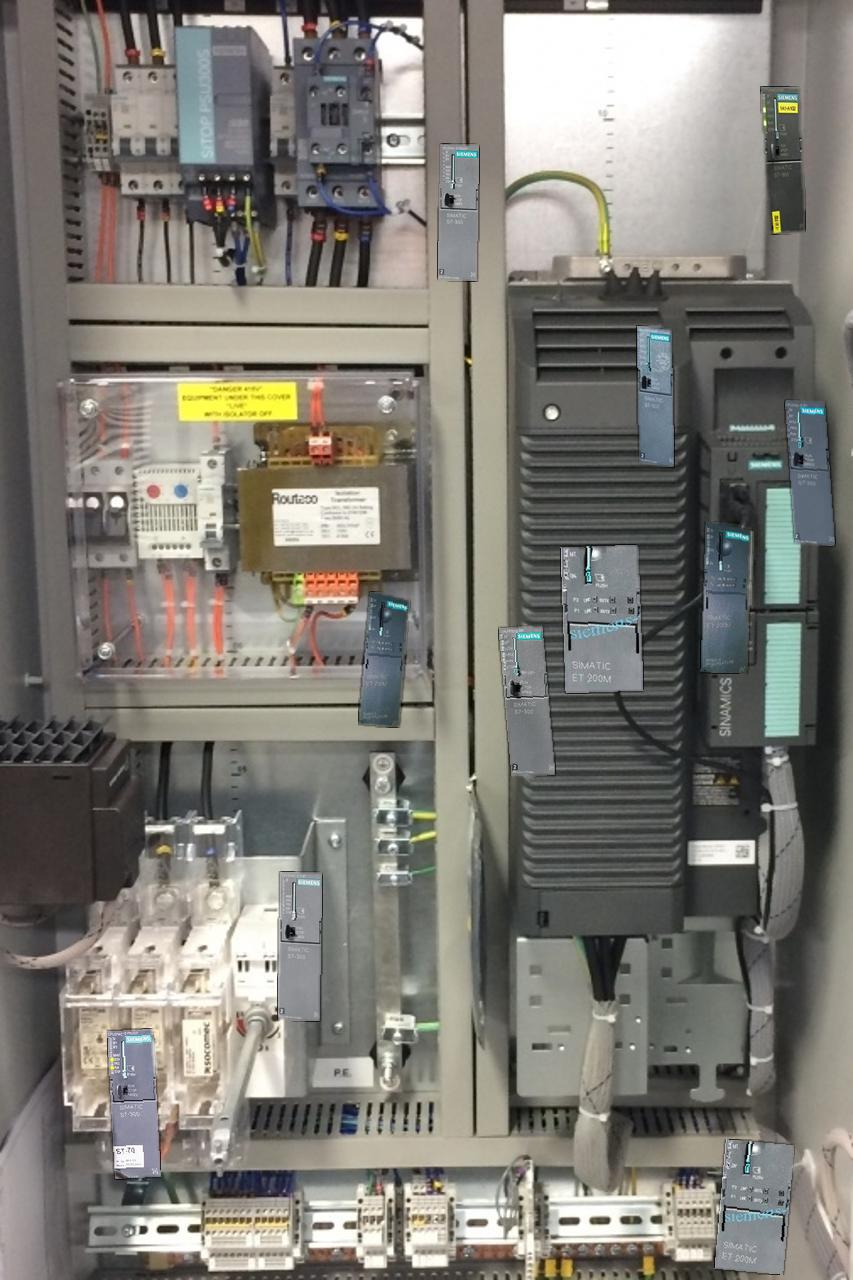Siemens: (499, 626, 554, 775), (107, 1029, 160, 1178), (785, 400, 834, 545), (278, 872, 321, 1020), (761, 87, 804, 233), (438, 144, 478, 280), (637, 326, 673, 466)
